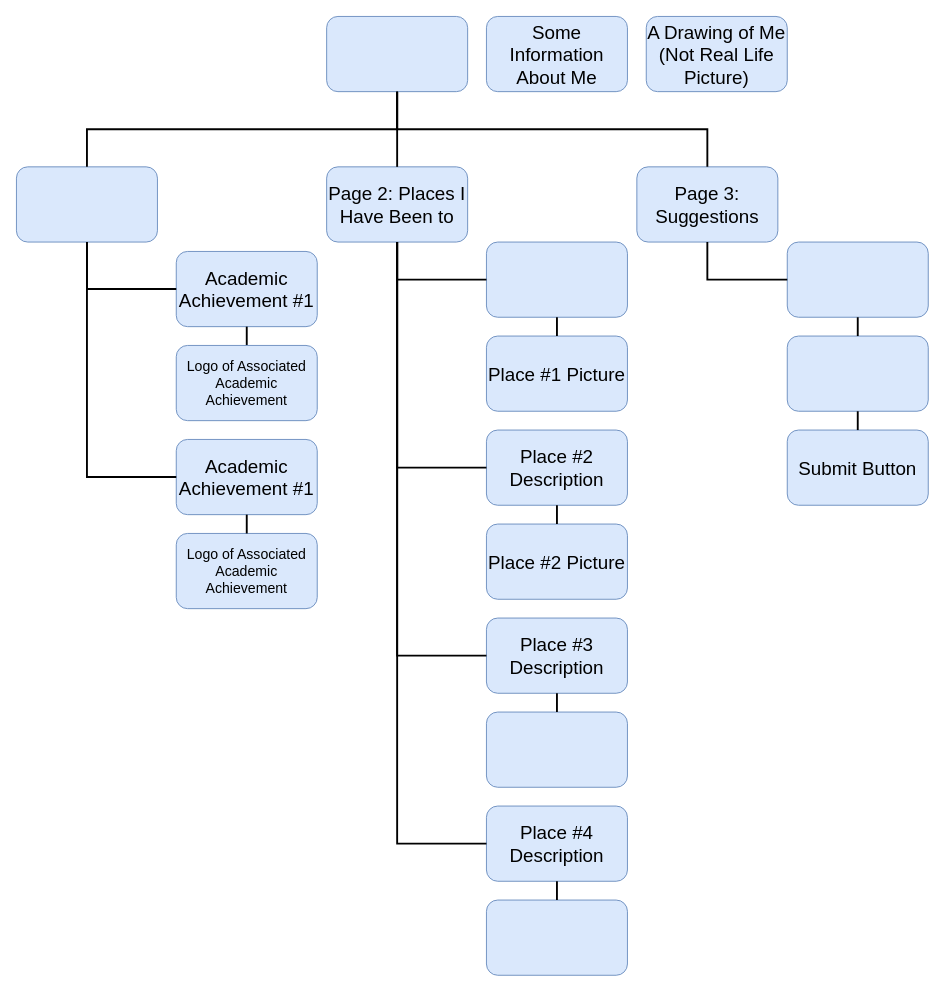
This 945x992 diagram has some shape labels left out. Here are the shapes that lost their labels. From the top down, the centre of each, then its label:
pixel 397 54: Homepage: About me
pixel 86 204: Page 1: Academic Achievements
pixel 556 279: Place #1 Description
pixel 857 279: Form Boxes of Some User Information
pixel 857 373: Form Box of Suggestions
pixel 556 749: Place #3 Picture
pixel 556 937: Place #4 Picture
